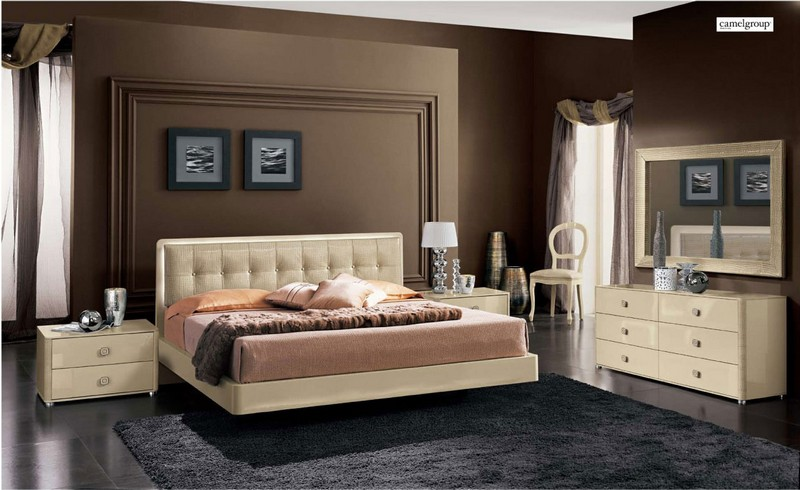bed: (150, 235, 540, 412)
chair: (530, 223, 590, 329)
lamp: (420, 220, 462, 301)
stool: (37, 320, 160, 408)
